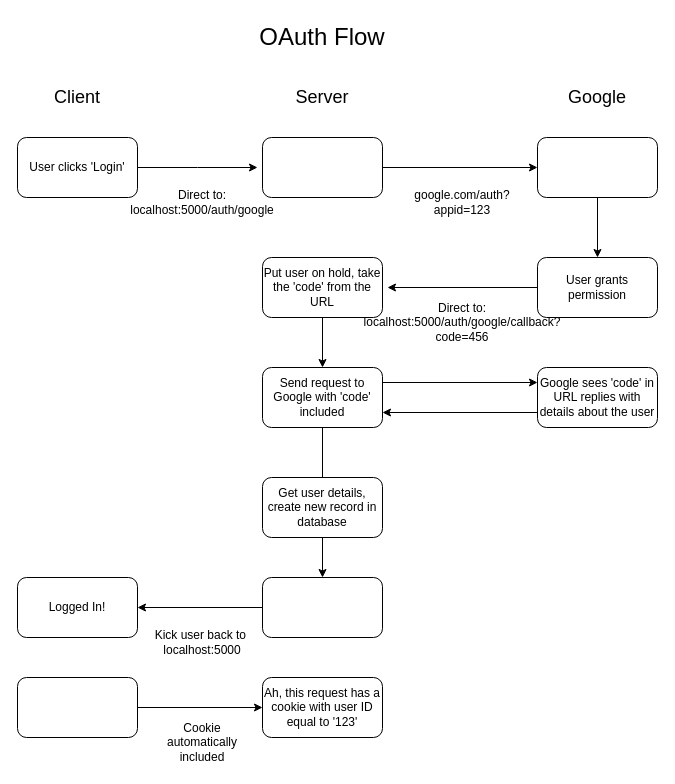
The diagram is 675 pixels wide and 784 high, and some of its shapes have lost their labels. Here are the shapes that lost their labels. From the top down, the centre of each, then its label:
At [322,167]: "Forward user's request to Google".
At [597,167]: "Ask user if they grant premission".
At [322,607]: "Set user ID in cookie for this user".
At [77,707]: "I need some resources from the API".
